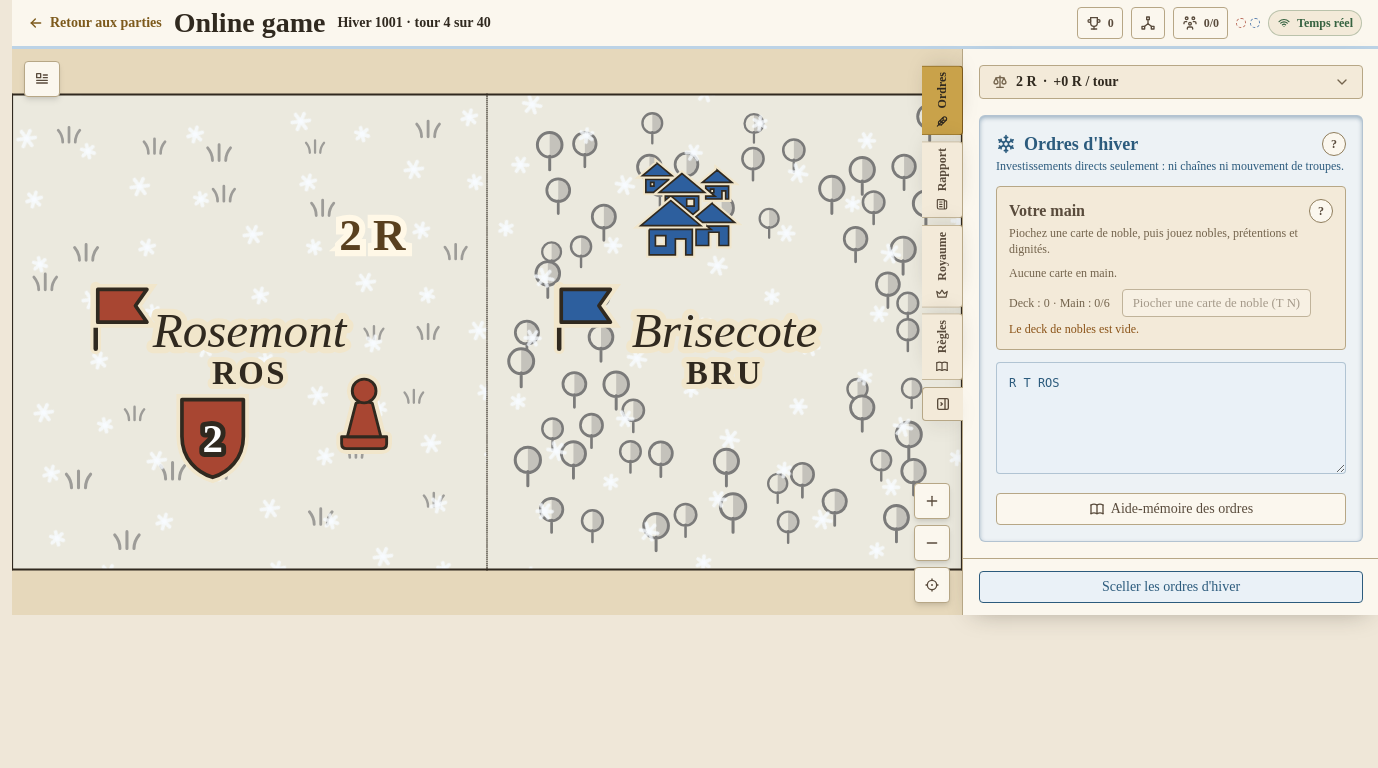
GamePage submission rehydration and divergence › rehydrates winter orders and shows divergence when modified
Expected: the heading "Online game" is shown, [174, 6, 325, 40]
Expected: the text "Brouillon différent du serveur" is not shown
Replace the text in the text box named "Ordres d'hiver de P1" with "R T BRU". click: (1171, 418)
box: [996, 362, 1346, 474]
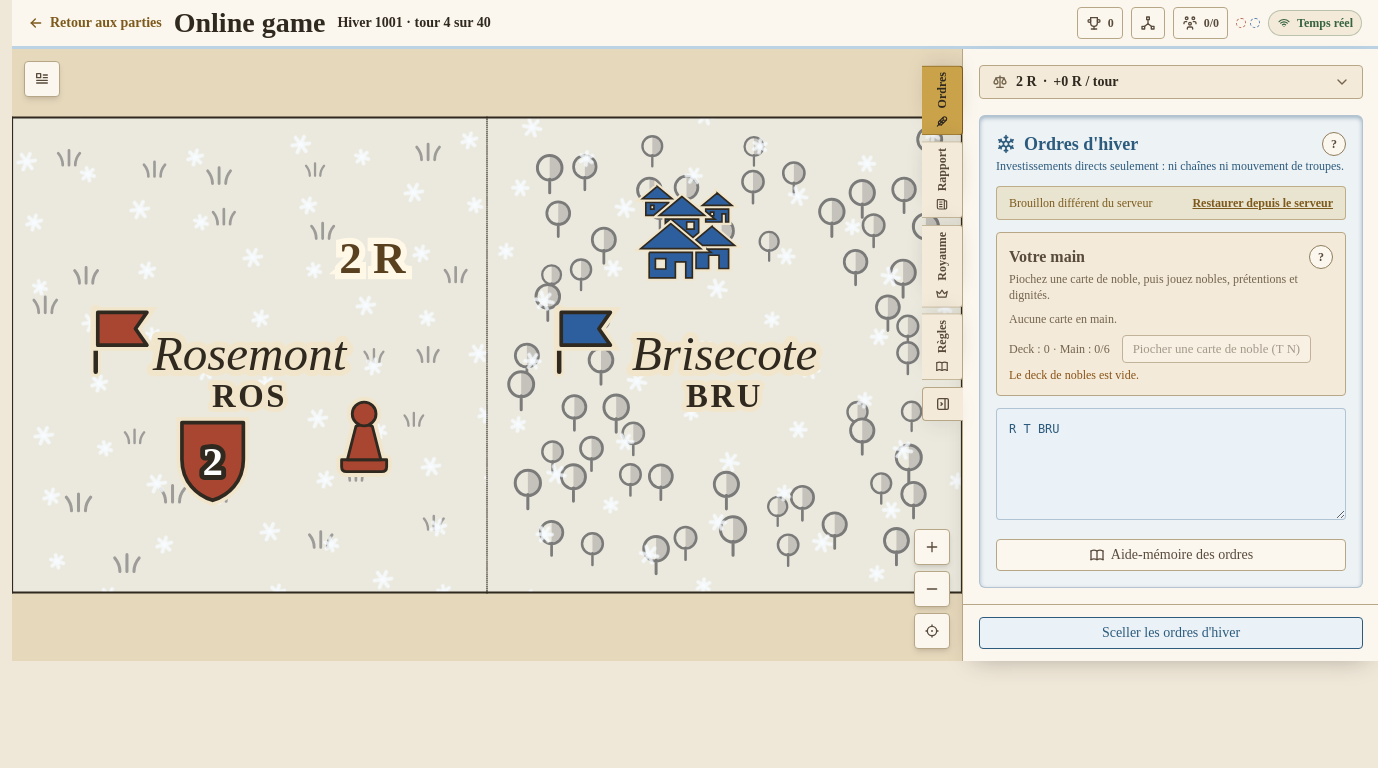
Expected: the text "Brouillon différent du serveur" is shown, [1009, 195, 1152, 211]
Click the button "Restaurer depuis le serveur". click: (1263, 203)
box: [1192, 195, 1333, 211]
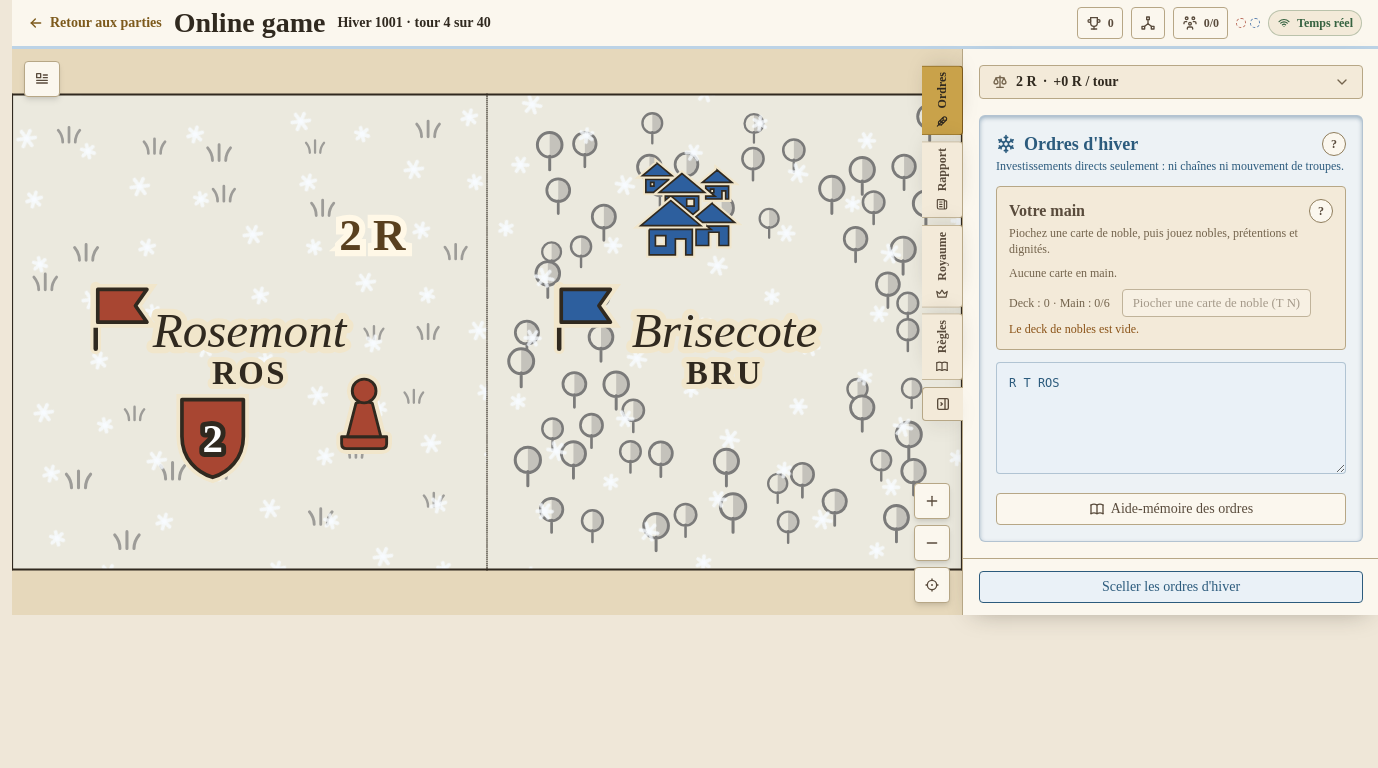
Expected: the text box named "Ordres d'hiver de P1" holds "R T ROS", [996, 362, 1346, 474]
Expected: the text "Brouillon différent du serveur" is gone
